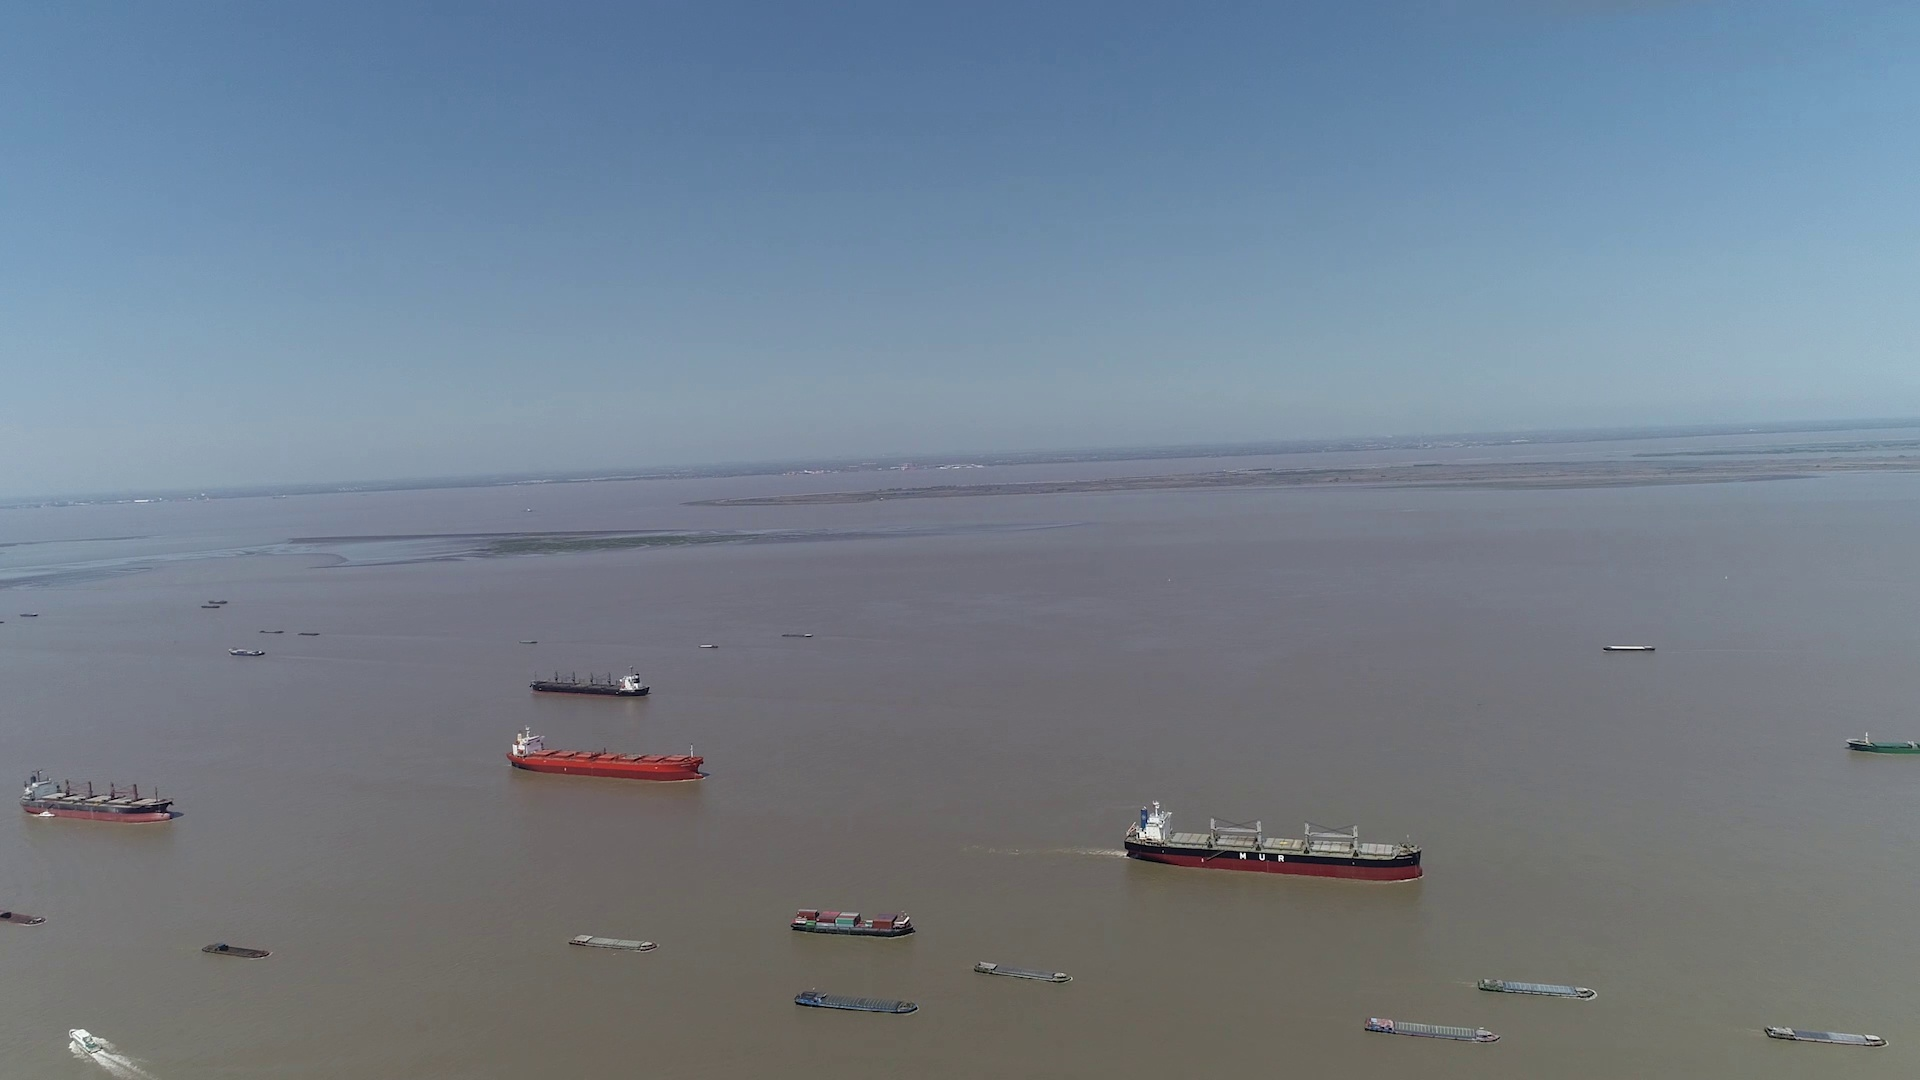ship: (1126, 802, 1420, 884), (506, 724, 703, 781), (21, 769, 177, 822), (521, 676, 661, 717), (785, 955, 915, 992), (1365, 1015, 1501, 1044), (789, 909, 916, 938), (530, 667, 649, 696), (793, 990, 918, 1015), (1762, 1022, 1884, 1047), (1477, 977, 1594, 1000), (972, 960, 1071, 982), (1845, 733, 1919, 756), (567, 934, 655, 951), (65, 1027, 109, 1058), (200, 942, 272, 959), (0, 907, 42, 924), (1604, 642, 1656, 651), (229, 647, 264, 657)
